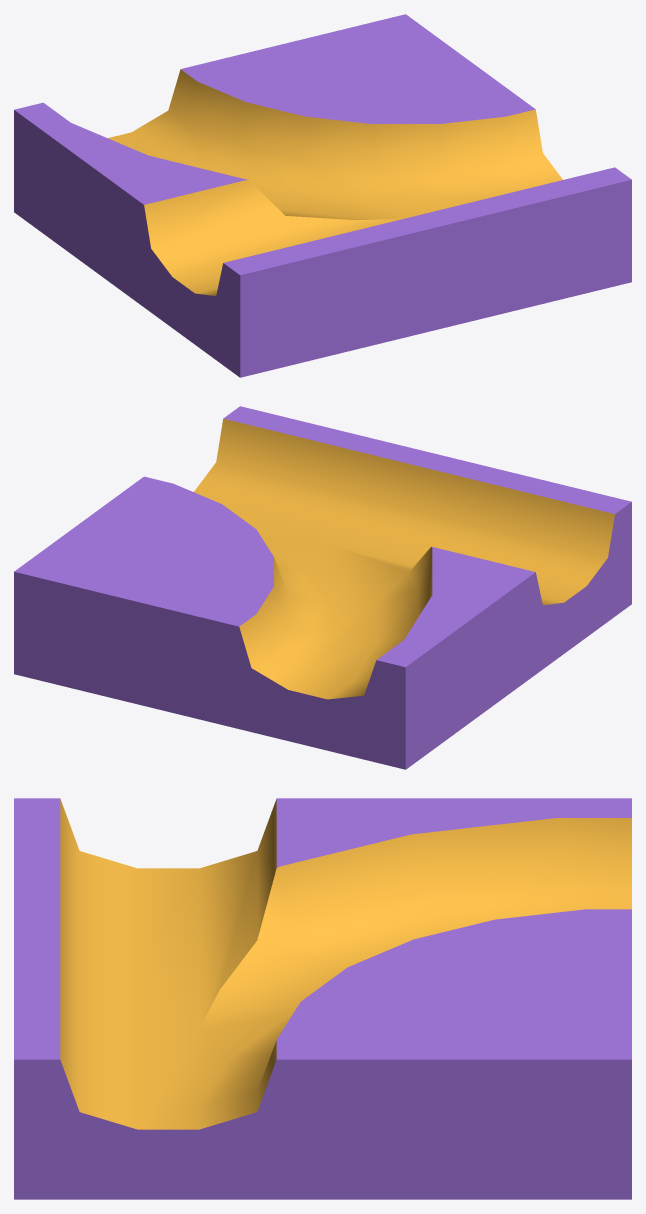
The model's file is split-solid-right-col.glb.
The picture shows the model from 3 angles, top to bottom: view 1: azimuth 30°, elevation 25°; view 2: azimuth 150°, elevation 25°; view 3: azimuth 270°, elevation 25°; orthographic projection. The views are drawn at different scales.
Visible parts, largest first — view 1: split-solid-right-col; view 2: split-solid-right-col; view 3: split-solid-right-col.
Part boxes in pixels (x1=…): split-solid-right-col: x1=14, y1=14, x2=631, y2=377; split-solid-right-col: x1=14, y1=406, x2=631, y2=769; split-solid-right-col: x1=14, y1=798, x2=631, y2=1199.
Size of the model in its own units: 2 by 0.5 by 2.
Materials: 1 (1 with a texture image).
